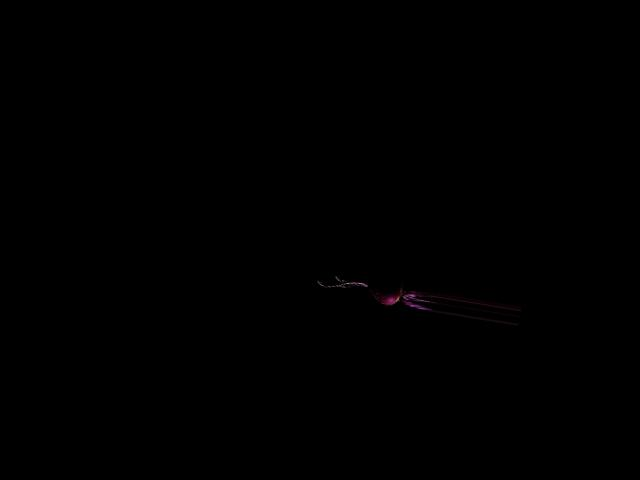beet: (314, 262, 440, 314)
